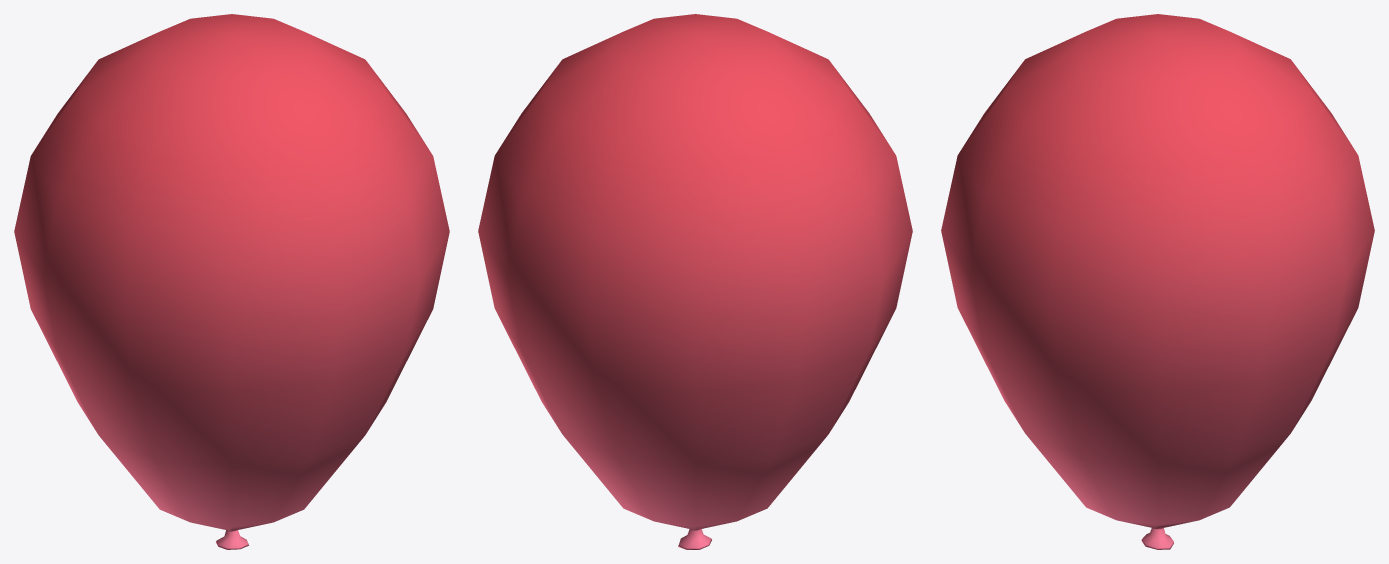
File: SM_balloon_red.fbx
3 renders of one model, left to right at view 1: azimuth 30°, elevation 25°; view 2: azimuth 150°, elevation 25°; view 3: azimuth 270°, elevation 25°, orthographic.
Parts seen in each view (by area): view 1: Cube.025; view 2: Cube.025; view 3: Cube.025.
Part boxes in pixels (bbox=[...]): Cube.025: bbox=[14, 14, 449, 549]; Cube.025: bbox=[478, 14, 912, 549]; Cube.025: bbox=[941, 14, 1374, 549].
Bounding box in the file's own units: 121 × 157 × 121.
